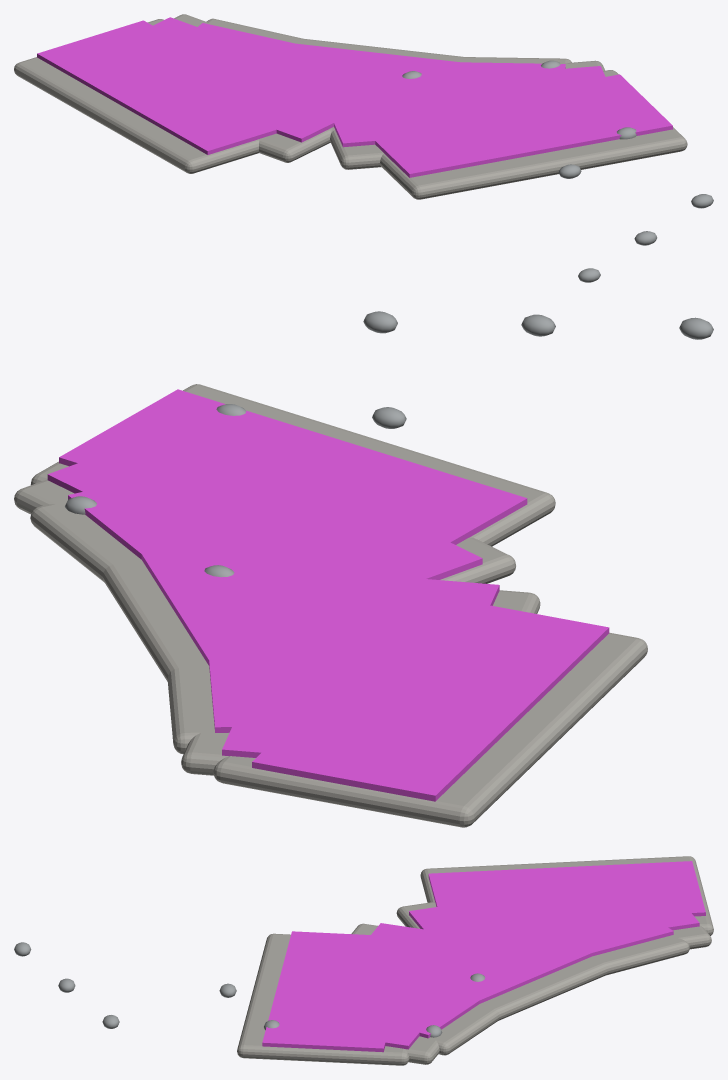
3 views of the same model, one above another, from view 1: azimuth 30°, elevation 25°; view 2: azimuth 150°, elevation 25°; view 3: azimuth 270°, elevation 25° (orthographic). The views are drawn at different scales.
Parts seen in each view (by area): view 1: NAV_MASK_FOREST_PATH_GRAVEL_CURVE_ARC_01, NAV_MASK_FOREST_PATH_GRAVEL_CURVE_ARC_03, NAV_MASK_FOREST_PATH_GRAVEL_CURVE_ARC_07, NAV_MASK_FOREST_PATH_GRAVEL_CURVE_ARC_02, NAV_MASK_FOREST_PATH_GRAVEL_CURVE_ARC_06, NAV_MASK_FOREST_PATH_GRAVEL_CURVE_ARC_04, LOD0_FOREST_PATH_GRAVEL_CURVE_Arc_01, NAV_MASK_FOREST_PATH_GRAVEL_CURVE_ARC_05, LOD0_FOREST_PATH_GRAVEL_CURVE_Arc_07, LOD0_FOREST_PATH_GRAVEL_CURVE_Arc_06, LOD0_FOREST_PATH_GRAVEL_CURVE_Arc_02, LOD0_FOREST_PATH_GRAVEL_CURVE_Arc_04 (+2 smaller); view 2: NAV_MASK_FOREST_PATH_GRAVEL_CURVE_ARC_03, NAV_MASK_FOREST_PATH_GRAVEL_CURVE_ARC_01, NAV_MASK_FOREST_PATH_GRAVEL_CURVE_ARC_07, NAV_MASK_FOREST_PATH_GRAVEL_CURVE_ARC_06, NAV_MASK_FOREST_PATH_GRAVEL_CURVE_ARC_04, LOD0_FOREST_PATH_GRAVEL_CURVE_Arc_07, NAV_MASK_FOREST_PATH_GRAVEL_CURVE_ARC_05, LOD0_FOREST_PATH_GRAVEL_CURVE_Arc_01, LOD0_FOREST_PATH_GRAVEL_CURVE_Arc_04, NAV_MASK_FOREST_PATH_GRAVEL_CURVE_ARC_02, LOD0_FOREST_PATH_GRAVEL_CURVE_Arc_03, LOD0_FOREST_PATH_GRAVEL_CURVE_Arc_05 (+2 smaller); view 3: NAV_MASK_FOREST_PATH_GRAVEL_CURVE_ARC_01, NAV_MASK_FOREST_PATH_GRAVEL_CURVE_ARC_06, NAV_MASK_FOREST_PATH_GRAVEL_CURVE_ARC_05, NAV_MASK_FOREST_PATH_GRAVEL_CURVE_ARC_02, NAV_MASK_FOREST_PATH_GRAVEL_CURVE_ARC_07, NAV_MASK_FOREST_PATH_GRAVEL_CURVE_ARC_04, NAV_MASK_FOREST_PATH_GRAVEL_CURVE_ARC_03, LOD0_FOREST_PATH_GRAVEL_CURVE_Arc_01, LOD0_FOREST_PATH_GRAVEL_CURVE_Arc_04, LOD0_FOREST_PATH_GRAVEL_CURVE_Arc_07, LOD0_FOREST_PATH_GRAVEL_CURVE_Arc_03, LOD0_FOREST_PATH_GRAVEL_CURVE_Arc_05 (+2 smaller).
Boxes of the visible parts, x1,y1,x2,y2 form: NAV_MASK_FOREST_PATH_GRAVEL_CURVE_ARC_01: (357,74,672,177); NAV_MASK_FOREST_PATH_GRAVEL_CURVE_ARC_03: (274,59,565,116); NAV_MASK_FOREST_PATH_GRAVEL_CURVE_ARC_07: (37,20,312,154); NAV_MASK_FOREST_PATH_GRAVEL_CURVE_ARC_02: (319,66,624,147); NAV_MASK_FOREST_PATH_GRAVEL_CURVE_ARC_06: (84,17,353,142); NAV_MASK_FOREST_PATH_GRAVEL_CURVE_ARC_04: (205,37,484,106); LOD0_FOREST_PATH_GRAVEL_CURVE_Arc_01: (380,70,687,199); NAV_MASK_FOREST_PATH_GRAVEL_CURVE_ARC_05: (142,23,454,117); LOD0_FOREST_PATH_GRAVEL_CURVE_Arc_07: (14,19,259,173); LOD0_FOREST_PATH_GRAVEL_CURVE_Arc_06: (174,14,330,162); LOD0_FOREST_PATH_GRAVEL_CURVE_Arc_02: (330,60,604,169); LOD0_FOREST_PATH_GRAVEL_CURVE_Arc_04: (250,33,508,62); NAV_MASK_FOREST_PATH_GRAVEL_CURVE_ARC_03: (68,456,447,657); NAV_MASK_FOREST_PATH_GRAVEL_CURVE_ARC_01: (59,389,527,566); NAV_MASK_FOREST_PATH_GRAVEL_CURVE_ARC_07: (252,605,609,801); NAV_MASK_FOREST_PATH_GRAVEL_CURVE_ARC_06: (222,575,499,765); NAV_MASK_FOREST_PATH_GRAVEL_CURVE_ARC_04: (131,537,424,695); LOD0_FOREST_PATH_GRAVEL_CURVE_Arc_07: (213,632,647,827); NAV_MASK_FOREST_PATH_GRAVEL_CURVE_ARC_05: (199,541,414,732); LOD0_FOREST_PATH_GRAVEL_CURVE_Arc_01: (30,384,555,546); LOD0_FOREST_PATH_GRAVEL_CURVE_Arc_04: (91,527,212,704); NAV_MASK_FOREST_PATH_GRAVEL_CURVE_ARC_02: (47,419,482,612); LOD0_FOREST_PATH_GRAVEL_CURVE_Arc_03: (30,504,176,615); LOD0_FOREST_PATH_GRAVEL_CURVE_Arc_05: (167,613,214,754); NAV_MASK_FOREST_PATH_GRAVEL_CURVE_ARC_01: (262,931,413,1052); NAV_MASK_FOREST_PATH_GRAVEL_CURVE_ARC_06: (409,874,699,959); NAV_MASK_FOREST_PATH_GRAVEL_CURVE_ARC_05: (397,887,673,990); NAV_MASK_FOREST_PATH_GRAVEL_CURVE_ARC_02: (295,923,495,1049); NAV_MASK_FOREST_PATH_GRAVEL_CURVE_ARC_07: (428,861,705,922); NAV_MASK_FOREST_PATH_GRAVEL_CURVE_ARC_04: (356,900,610,1014); NAV_MASK_FOREST_PATH_GRAVEL_CURVE_ARC_03: (339,913,536,1038); LOD0_FOREST_PATH_GRAVEL_CURVE_Arc_01: (237,933,409,1065); LOD0_FOREST_PATH_GRAVEL_CURVE_Arc_04: (454,944,641,1024); LOD0_FOREST_PATH_GRAVEL_CURVE_Arc_07: (420,856,713,935); LOD0_FOREST_PATH_GRAVEL_CURVE_Arc_03: (429,980,536,1055); LOD0_FOREST_PATH_GRAVEL_CURVE_Arc_05: (563,936,689,974).
Size of what is drawn, in the model's own units: 5.5 by 0.24 by 8.07.
